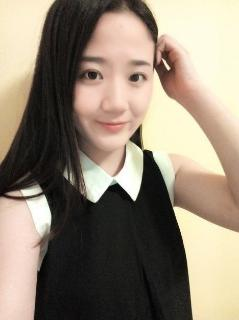short sleeve dress: (15, 136, 194, 319)
